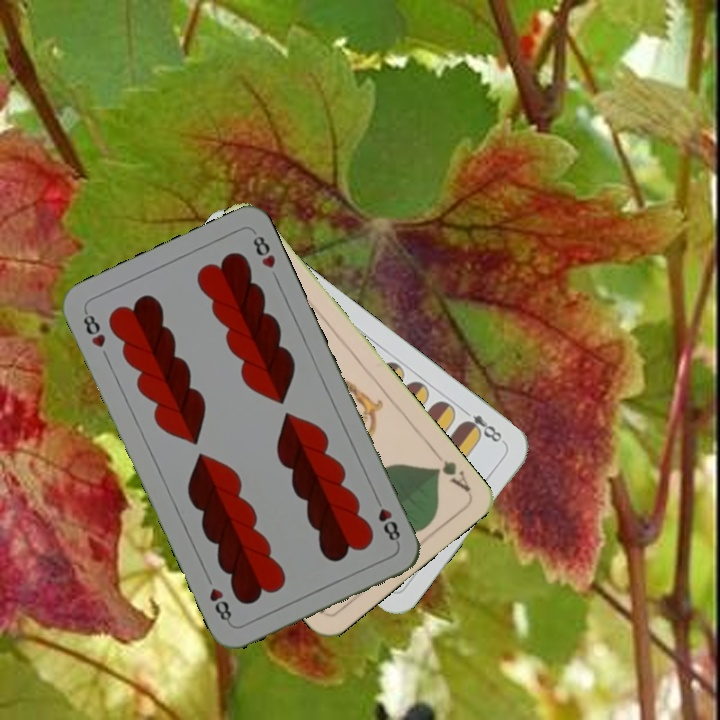E8: (458, 404, 508, 447)
GA: (428, 446, 473, 495)
H8: (370, 492, 403, 547), (79, 307, 108, 351)
